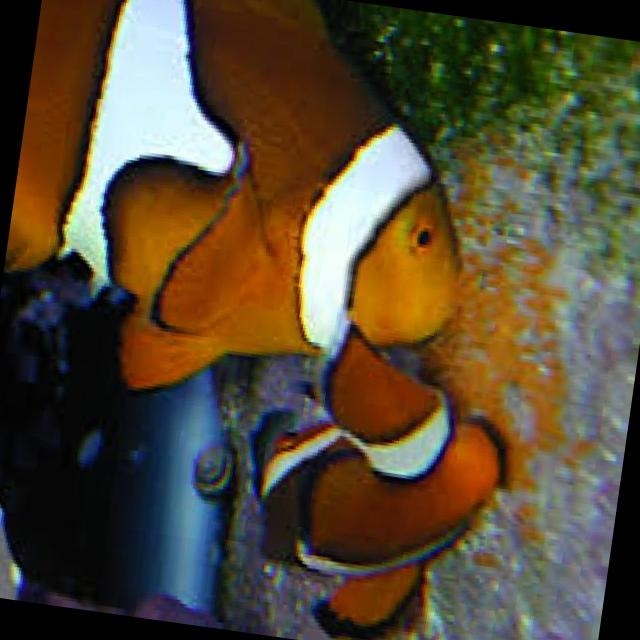ClownFish: (0, 0, 488, 409), (212, 306, 537, 640)
